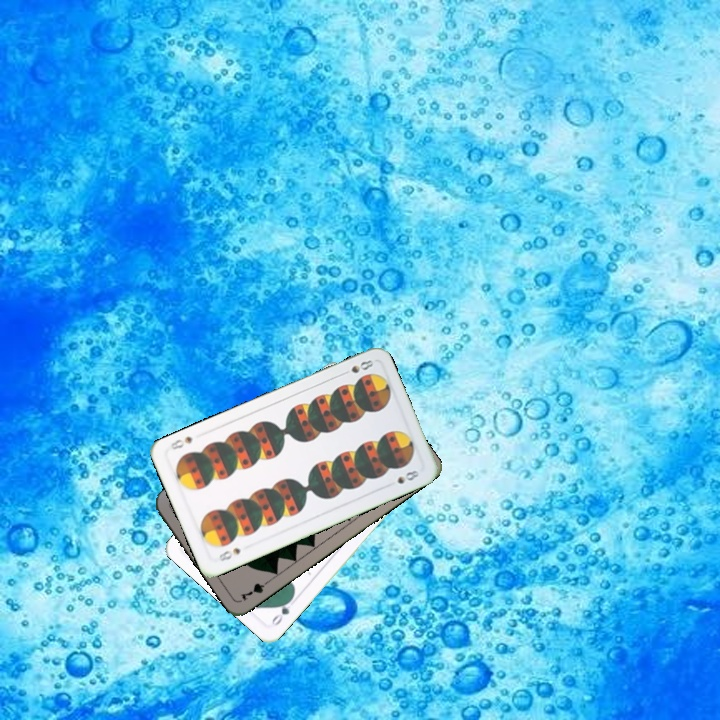G7: (236, 575, 274, 603)
GO: (268, 593, 296, 628)
S8: (215, 543, 243, 564), (347, 356, 376, 376)
